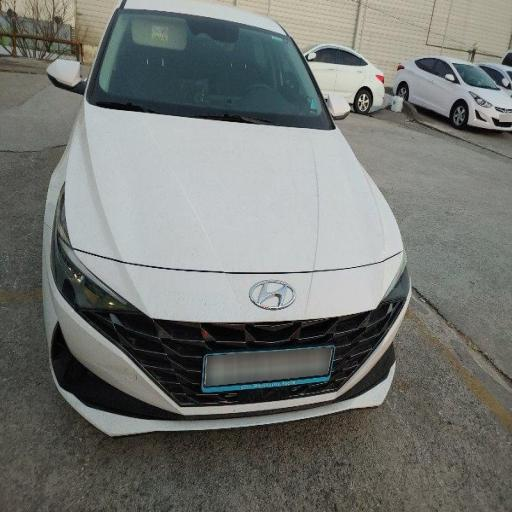scratch: (166, 103, 376, 293)
